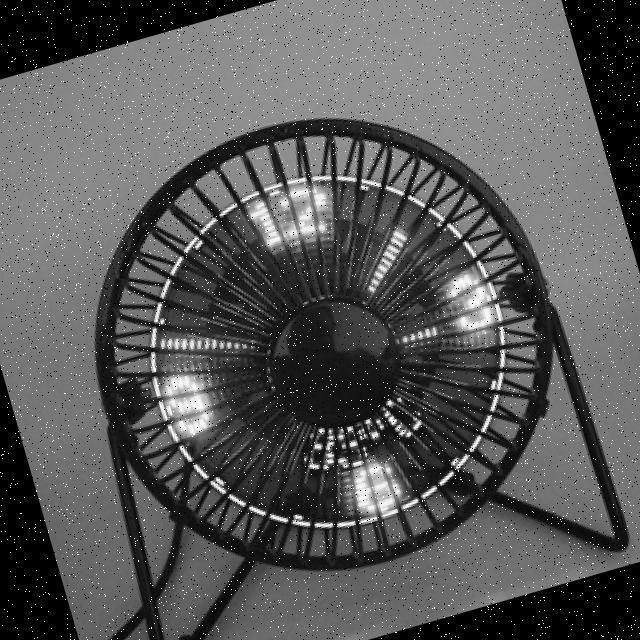fan: (33, 56, 625, 624)
